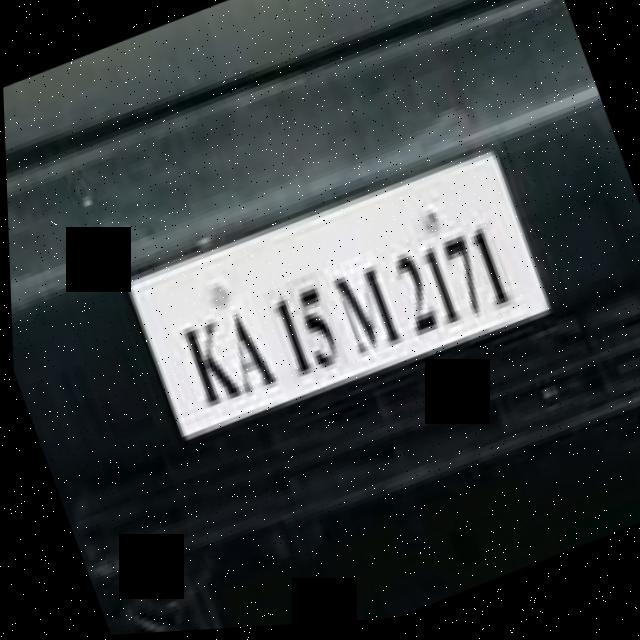1: (260, 287, 315, 388), (414, 240, 465, 342), (465, 226, 516, 322)
5: (282, 274, 346, 380)
7: (430, 224, 493, 329)
A: (210, 292, 285, 418)
K: (166, 306, 249, 427)
M: (321, 253, 405, 368)
